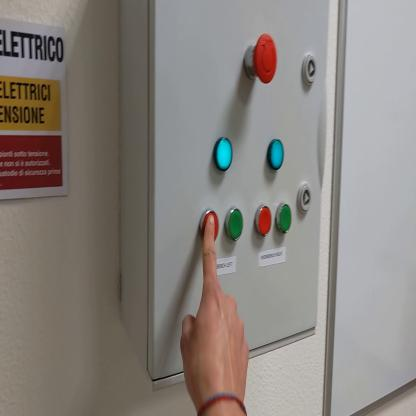hand: (179, 219, 252, 411)
left green button: (228, 208, 244, 239)
left red button: (201, 210, 220, 246)
right green button: (277, 201, 292, 233)
right red button: (256, 208, 274, 238)
